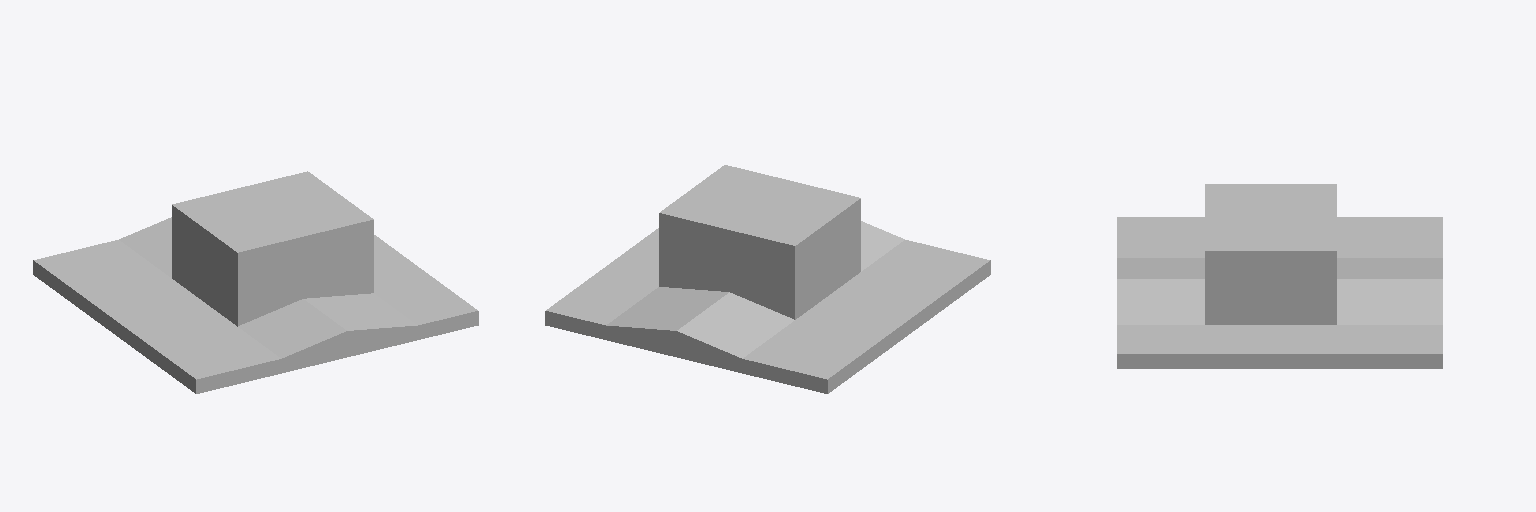
File: textureTrack.obj
3 renders of one model, left to right at view 1: azimuth 30°, elevation 25°; view 2: azimuth 150°, elevation 25°; view 3: azimuth 270°, elevation 25°, orthographic.
Parts seen in each view (by area): view 1: Cube.002; view 2: Cube.002; view 3: Cube.002.
Boxes of the visible parts, box(x1,y1,x2,y2) form: Cube.002: box(33, 171, 478, 393); Cube.002: box(545, 165, 990, 393); Cube.002: box(1117, 184, 1442, 368).
Bounding box in the file's own units: 400 × 120 × 400.